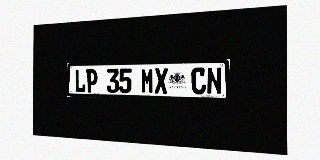3: (107, 69, 119, 93)
5: (119, 68, 132, 93)
C: (191, 67, 206, 94)
L: (75, 69, 86, 92)
M: (141, 68, 154, 94)
N: (207, 67, 222, 95)
P: (86, 69, 97, 93)
X: (154, 68, 168, 94)
